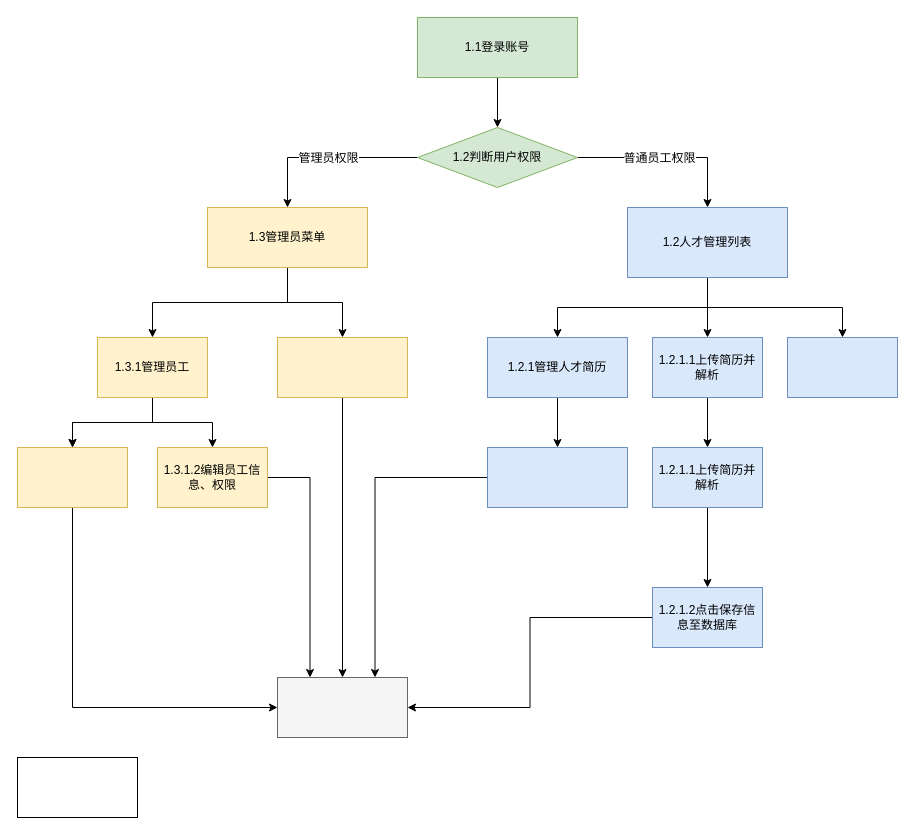
Some shapes in this 915 by 835 pixel diagram are drawn without their labels. The shapes that lost their labels are listed below. From the top down, each one's centre as x and y in pixels, then its label:
point (342, 367): 1.3.2管理部门
point (842, 367): 1.3.1.1浏览人才简历
point (72, 477): 1.3.1.1删减员工
point (557, 477): 1.2.1编辑删除人才简历
point (342, 707): mysql数据库
